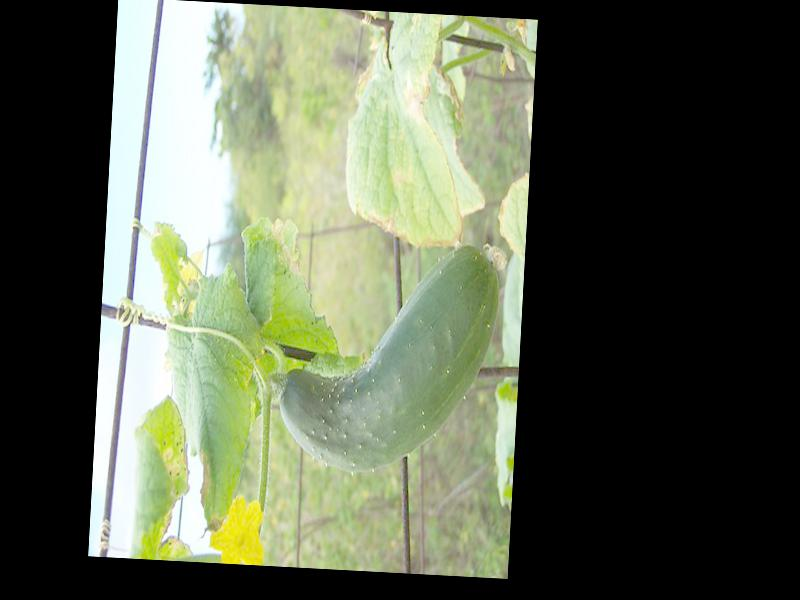Cucumber: (273, 232, 502, 476)
